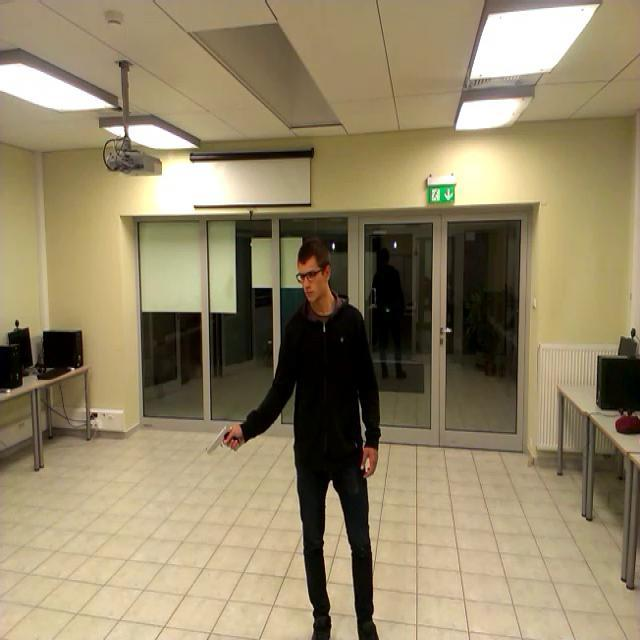Gun: (205, 425, 239, 453)
